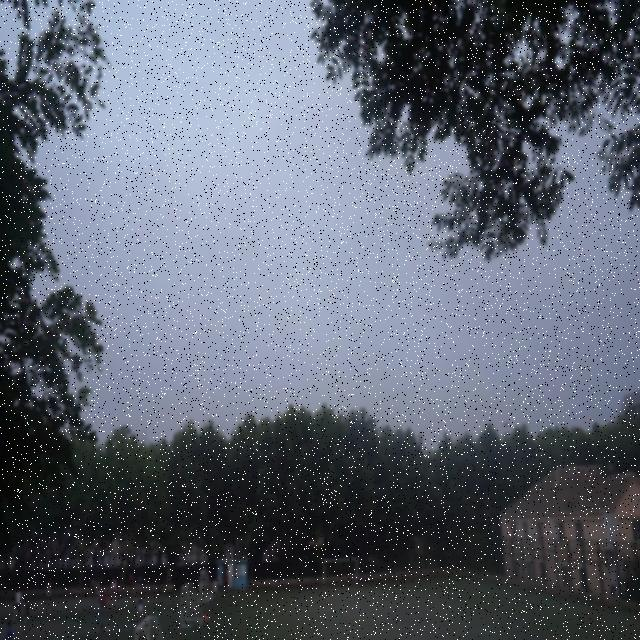UAV: (502, 420, 510, 428)
